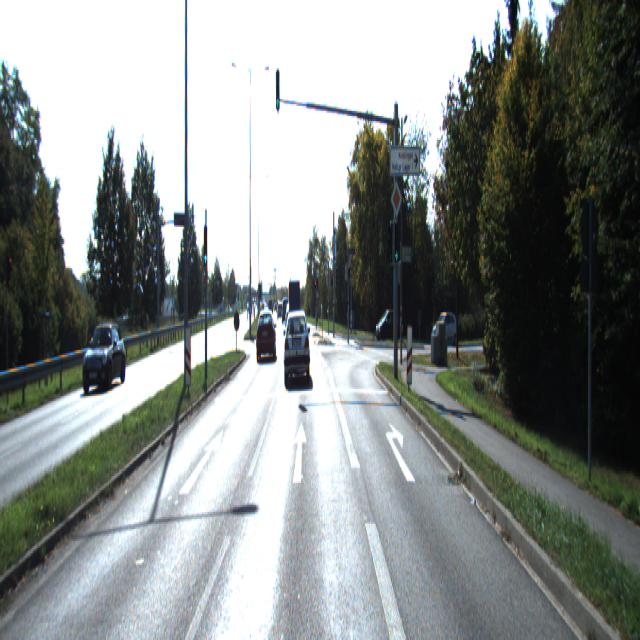Car: (84, 319, 126, 389), (284, 314, 311, 384), (255, 310, 278, 362), (288, 278, 301, 336)
